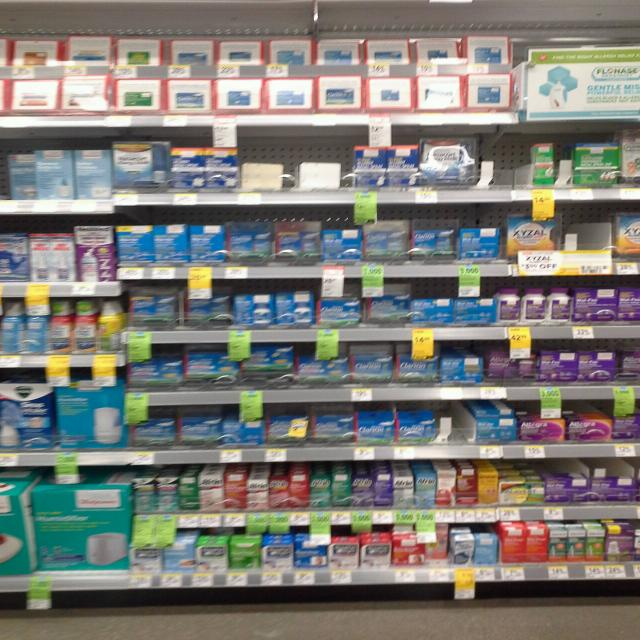empty: (476, 129, 530, 203), (435, 393, 474, 449)
